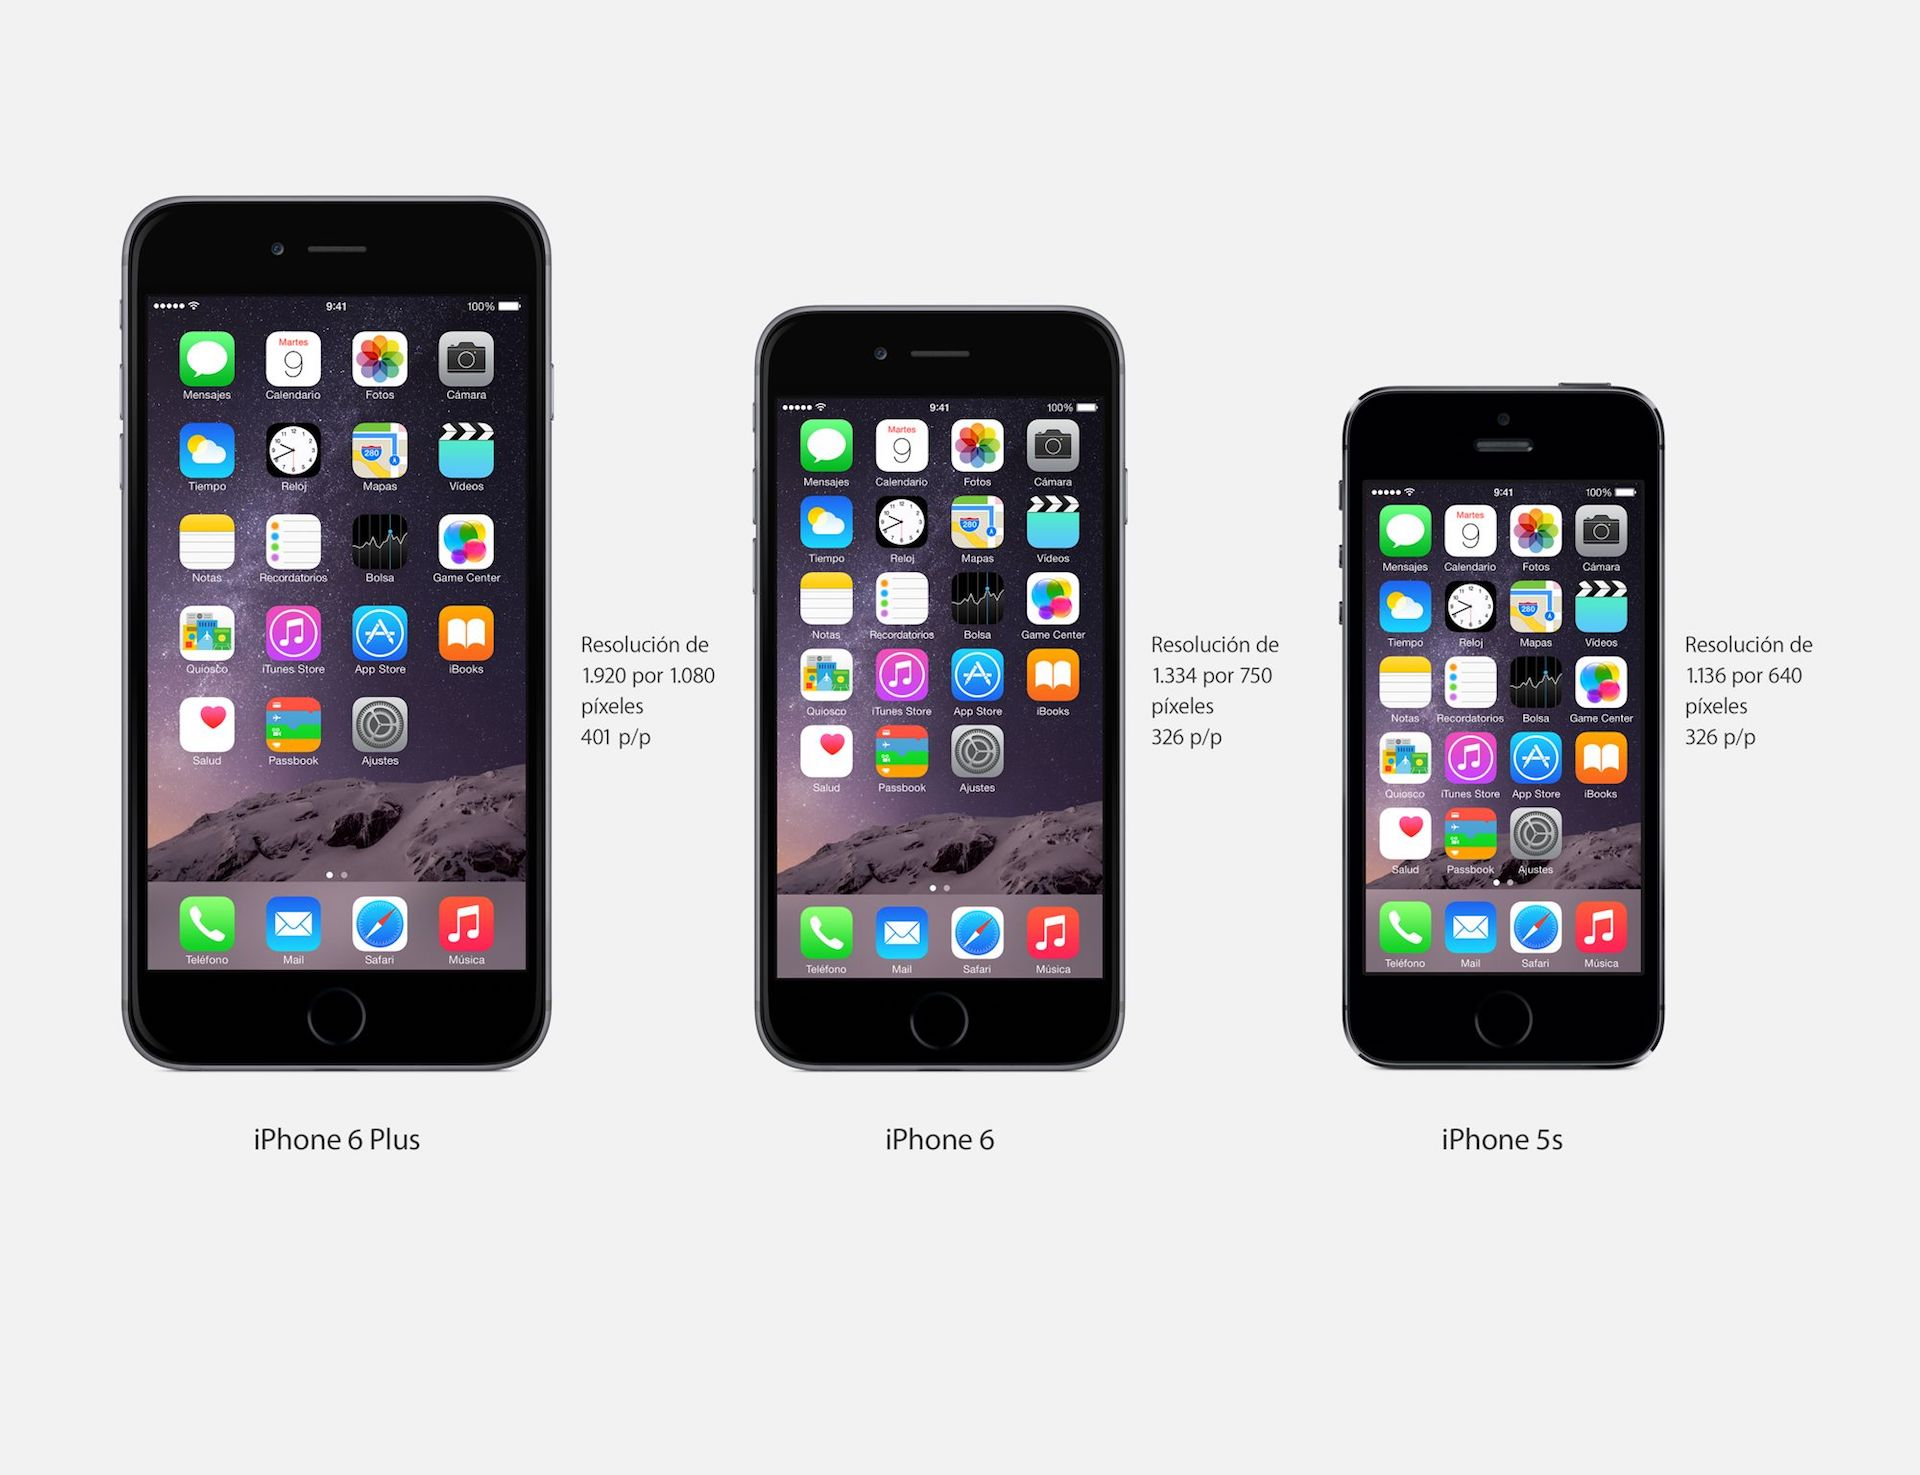smartphone: (118, 194, 555, 1074), (750, 302, 1128, 1075), (1336, 383, 1672, 1072)
